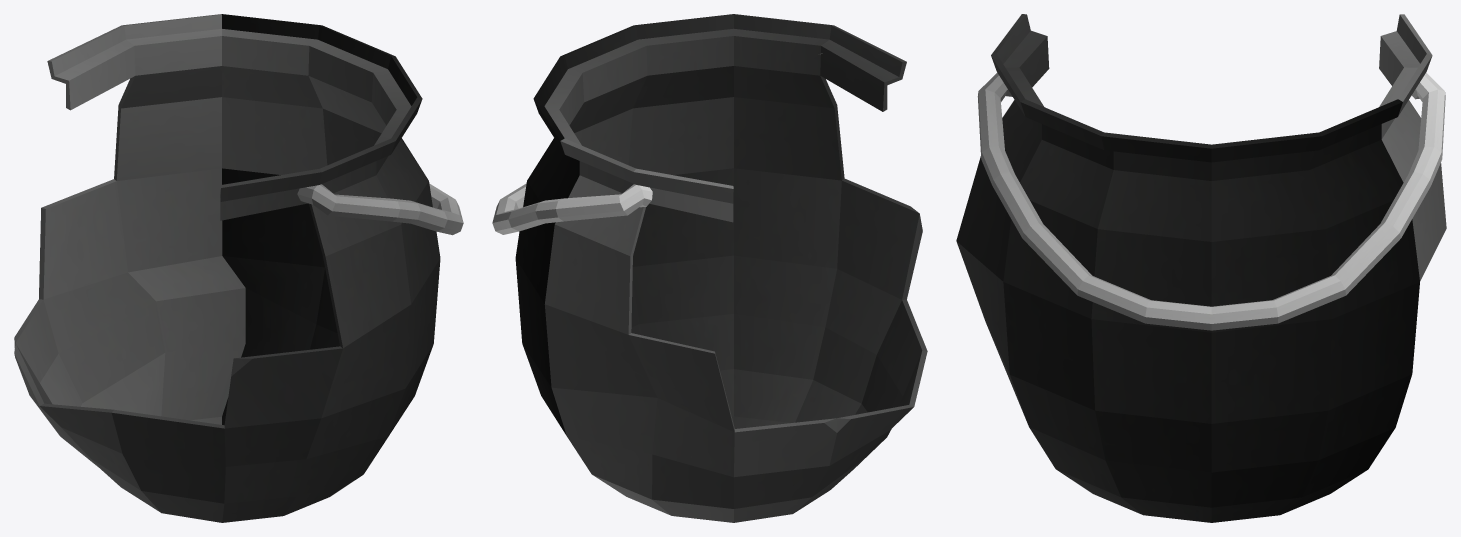
The model's file is Damaged_Cauldron.fbx.
3 renders of one model, left to right at view 1: azimuth 30°, elevation 25°; view 2: azimuth 150°, elevation 25°; view 3: azimuth 270°, elevation 25°, orthographic. The views are drawn at different scales.
Parts seen in each view (by area): view 1: Damaged Cauldron; view 2: Damaged Cauldron; view 3: Damaged Cauldron.
Boxes of the visible parts, left/top/right/bottom form: Damaged Cauldron: left=14, top=14, right=463, bottom=522; Damaged Cauldron: left=492, top=14, right=927, bottom=522; Damaged Cauldron: left=956, top=14, right=1446, bottom=522.
Bounding box in the file's own units: 41.04 × 38.96 × 40.5.
